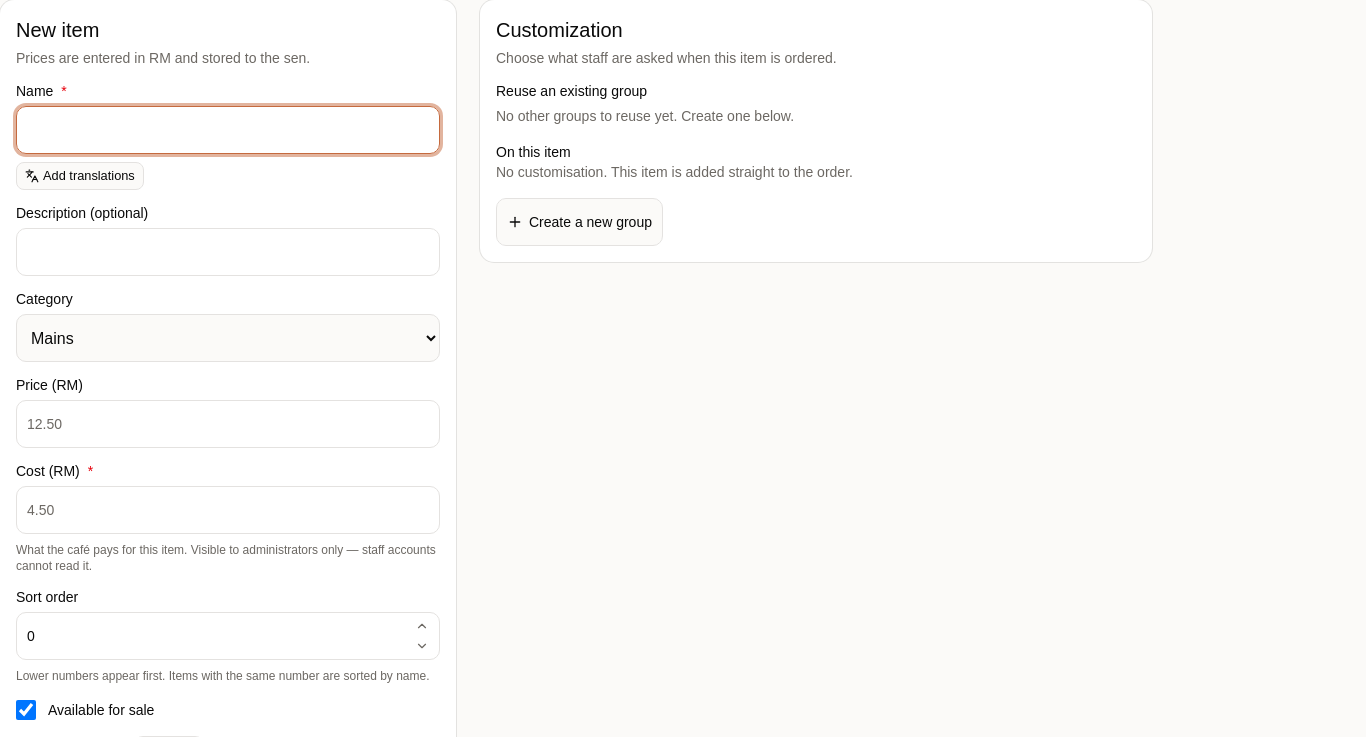
Scenario: the form shows one name, and the rest behind a button › names the item in the dialog title once it has a name
In the field with test id "name": (228, 130) 16,106 -> 440,154, type "Fried Rice"
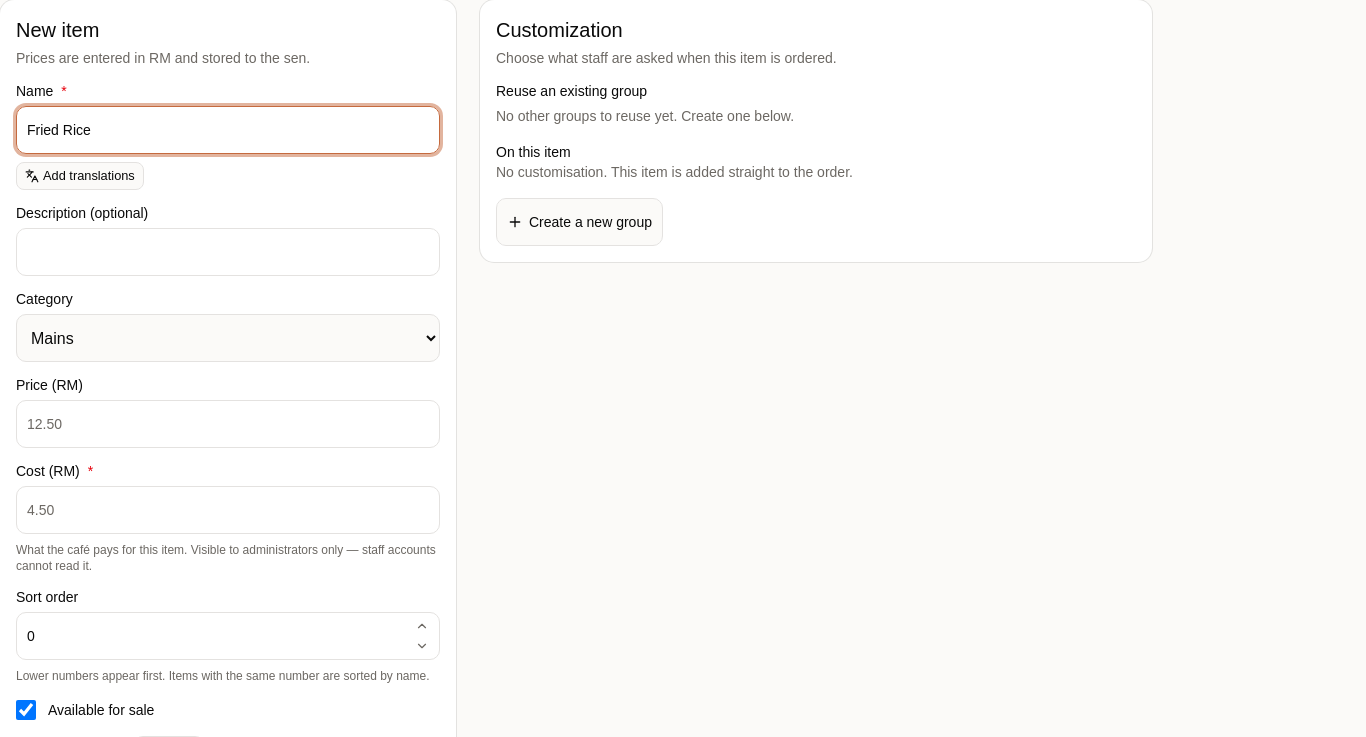
Click the button with test id "item-translate": (80, 176) 16,162 -> 144,190
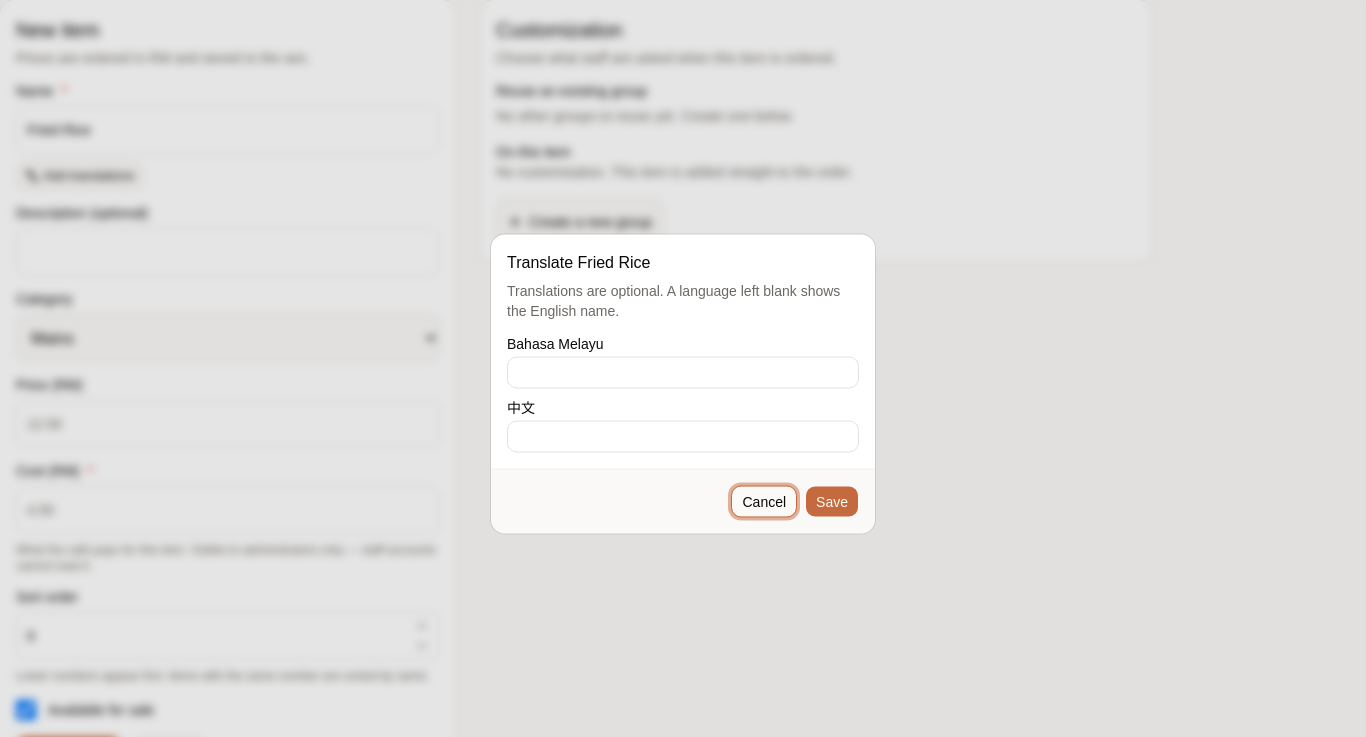
Result: the heading with test id "translation-title" reads "Translate Fried Rice" at 507,254 -> 650,270
